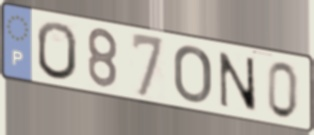0: (265, 59, 301, 121)
7: (129, 30, 166, 100)
8: (86, 27, 119, 91)
N: (216, 49, 260, 115)
O: (35, 20, 79, 83), (172, 44, 214, 106)
